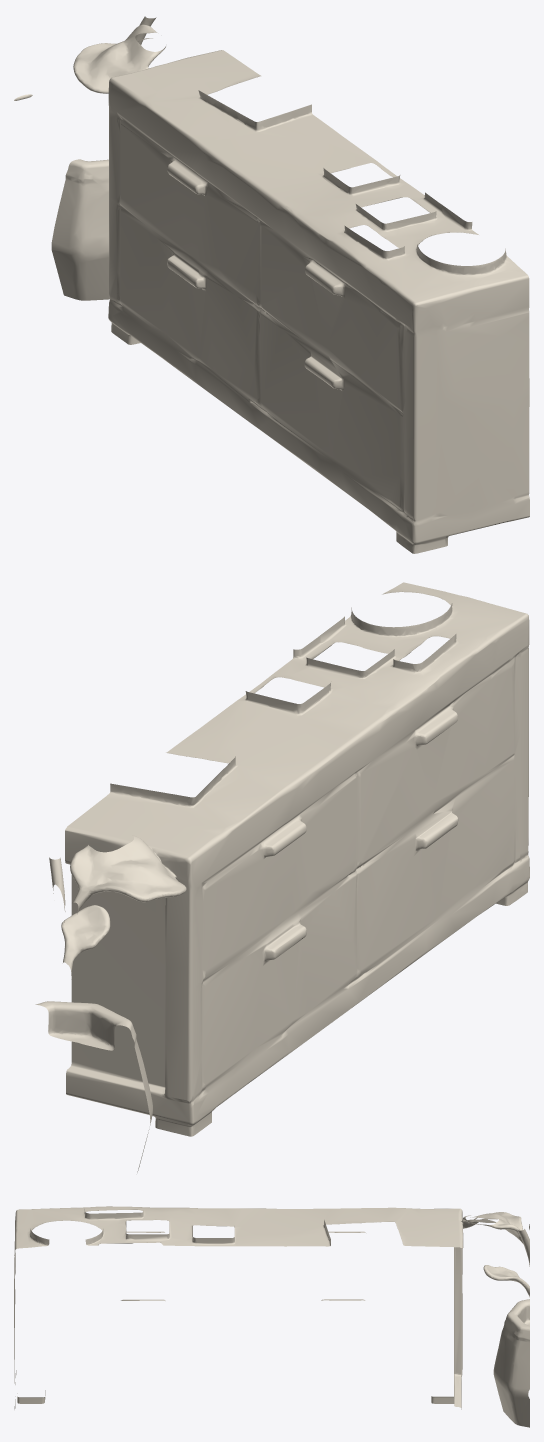
Rendered from bedroom_dresser.glb.
3 renders of one model, top to bottom at view 1: azimuth 30°, elevation 25°; view 2: azimuth 150°, elevation 25°; view 3: azimuth 270°, elevation 25°, orthographic. The views are drawn at different scales.
Size of the model in its own units: 0.1562 by 0.245 by 0.5968.
